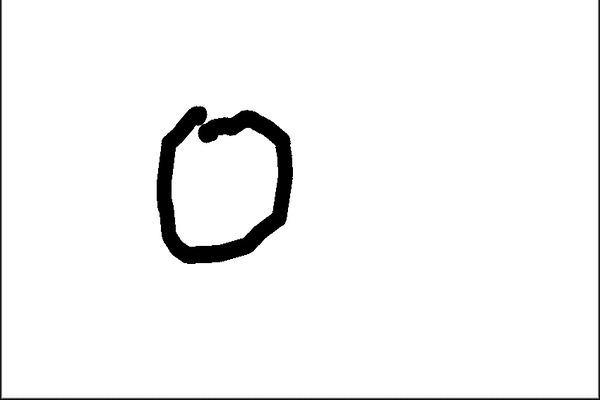O: (134, 92, 303, 272)
